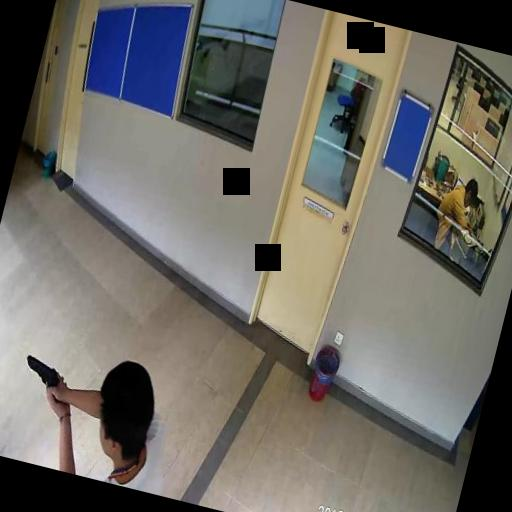Handgun: (17, 352, 69, 402)
